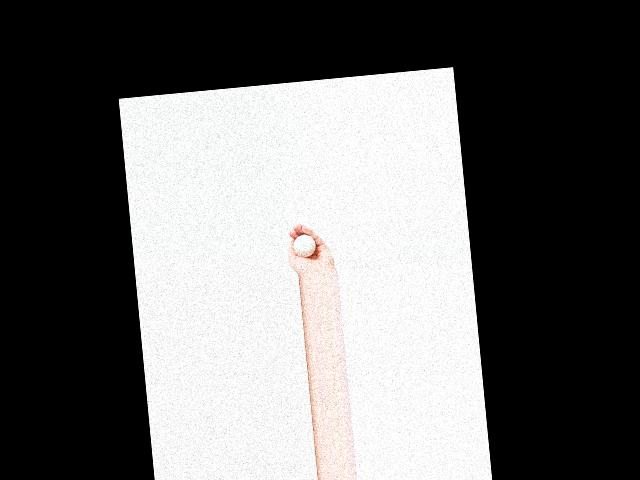egg: (293, 233, 316, 257)
